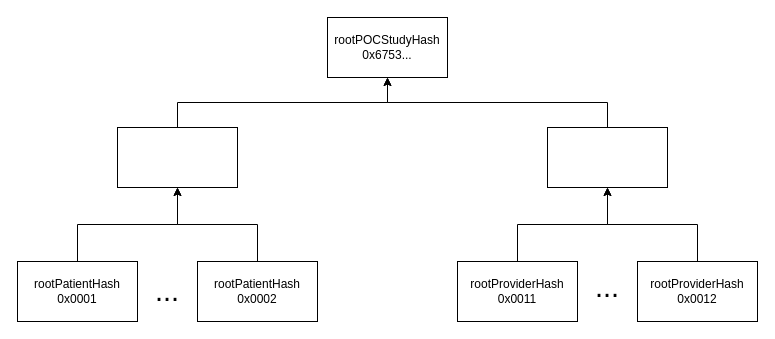
Some shapes in this 775 by 339 pixel diagram are drawn without their labels. The centre of each missing label's shape, as x and y in pixels:
rootHashAllPatient 0x9336...: pixel 177 157
rootHashAllProvider 0x8453...: pixel 607 157
